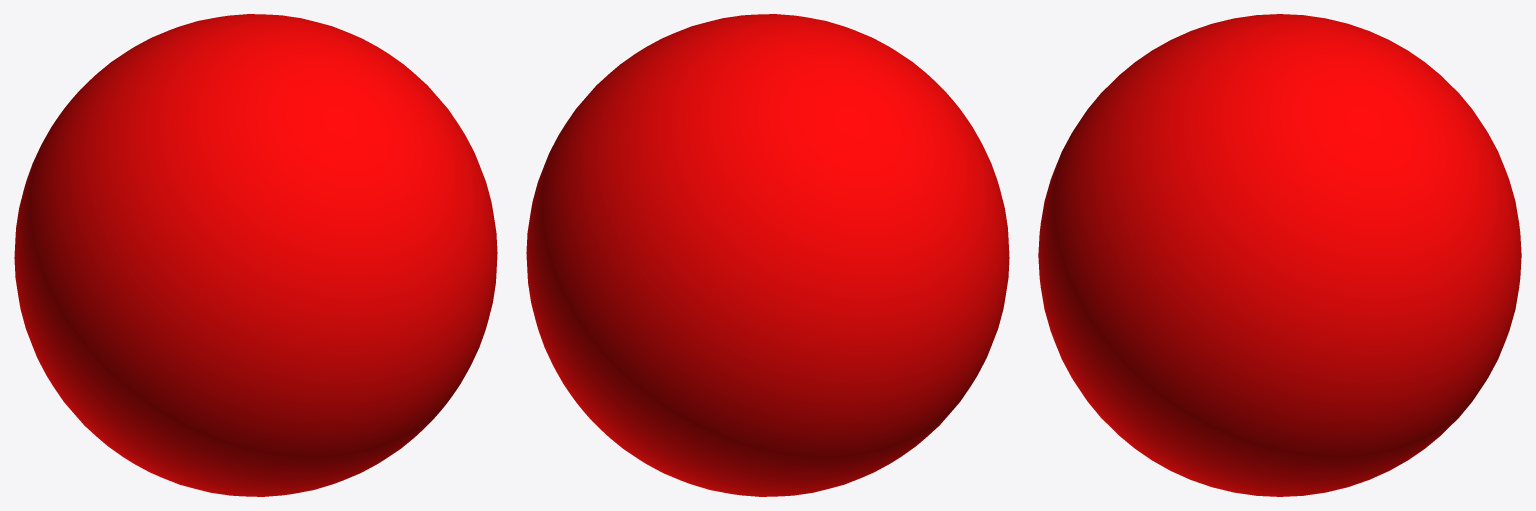
3 views of the same model, side by side, from view 1: azimuth 30°, elevation 25°; view 2: azimuth 150°, elevation 25°; view 3: azimuth 270°, elevation 25° (orthographic).
Parts seen in each view (by area): view 1: Cube; view 2: Cube; view 3: Cube.
Part boxes in pixels (x1,y1,x2,y2): Cube: (14, 14, 497, 496); Cube: (526, 14, 1009, 496); Cube: (1038, 14, 1521, 496).
Bounding box in the file's own units: 0.8563 × 0.8563 × 0.8563.
